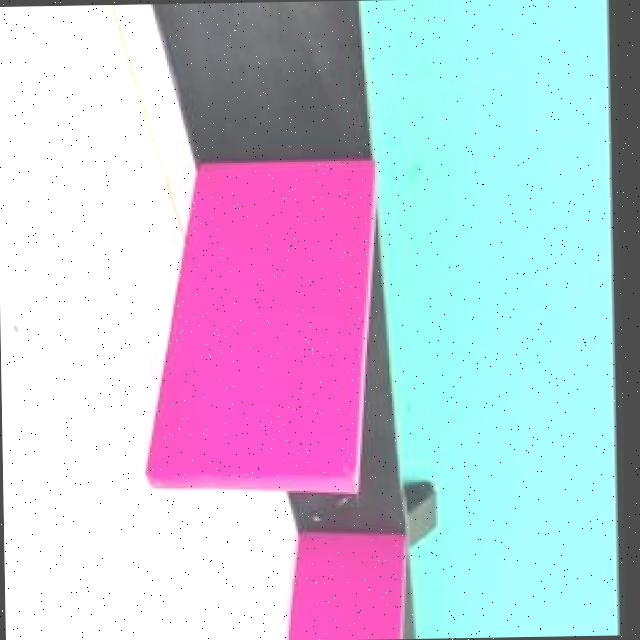xparking: (141, 170, 341, 480), (284, 541, 393, 640)
